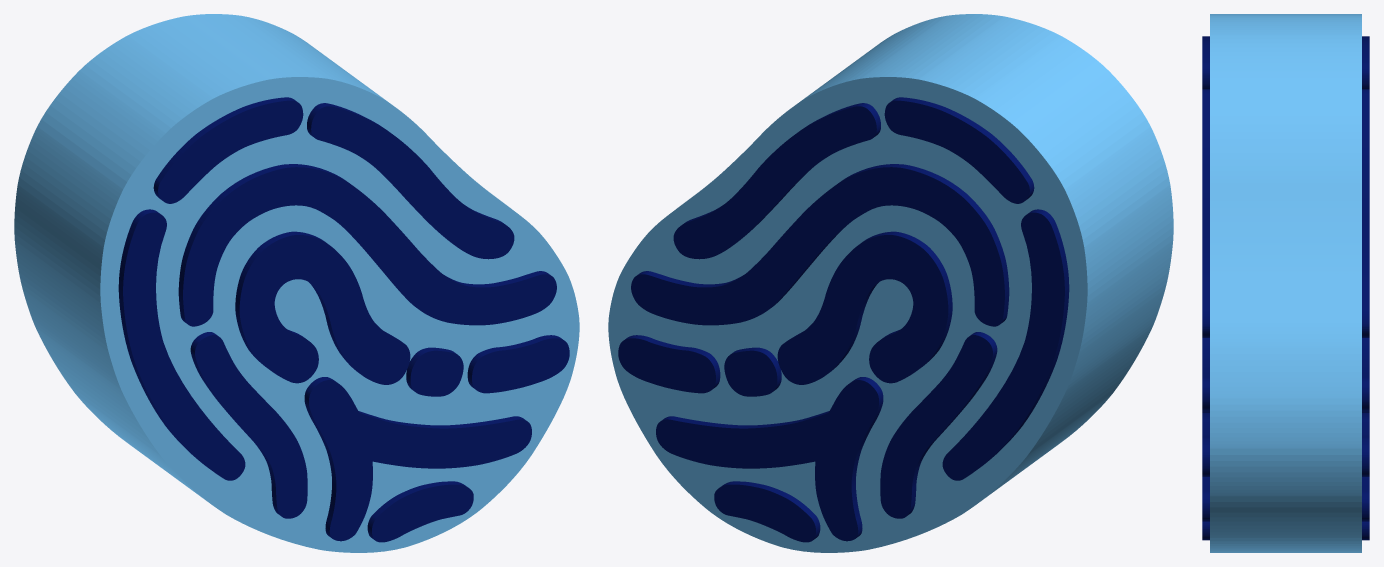
File: U+1FAC6.obj
The picture shows the model from 3 angles, left to right: view 1: azimuth 30°, elevation 25°; view 2: azimuth 150°, elevation 25°; view 3: azimuth 270°, elevation 25°; orthographic projection. The views are drawn at different scales.
Visible parts, largest first — view 1: U+1FAC6_layer00_obj00, U+1FAC6_layer01_obj04, U+1FAC6_layer01_obj03, U+1FAC6_layer01_obj06, U+1FAC6_layer01_obj01, U+1FAC6_layer01_obj00, U+1FAC6_layer01_obj05, U+1FAC6_layer01_obj07, U+1FAC6_layer01_obj09, U+1FAC6_layer01_obj08, U+1FAC6_layer01_obj02; view 2: U+1FAC6_layer00_obj00, U+1FAC6_layer01_obj04, U+1FAC6_layer01_obj03, U+1FAC6_layer01_obj06, U+1FAC6_layer01_obj01, U+1FAC6_layer01_obj00, U+1FAC6_layer01_obj05, U+1FAC6_layer01_obj07, U+1FAC6_layer01_obj09, U+1FAC6_layer01_obj08, U+1FAC6_layer01_obj02; view 3: U+1FAC6_layer00_obj00, U+1FAC6_layer01_obj00, U+1FAC6_layer01_obj04, U+1FAC6_layer01_obj09, U+1FAC6_layer01_obj07, U+1FAC6_layer01_obj06, U+1FAC6_layer01_obj08.
Part boxes in pixels (x1,y1,x2,y2): U+1FAC6_layer00_obj00: (14,14,579,552); U+1FAC6_layer01_obj04: (178,164,556,326); U+1FAC6_layer01_obj03: (235,231,410,384); U+1FAC6_layer01_obj06: (304,377,531,541); U+1FAC6_layer01_obj01: (118,209,245,480); U+1FAC6_layer01_obj00: (307,103,514,259); U+1FAC6_layer01_obj05: (190,332,307,518); U+1FAC6_layer01_obj07: (153,97,303,203); U+1FAC6_layer01_obj09: (467,335,569,393); U+1FAC6_layer01_obj08: (367,481,473,542); U+1FAC6_layer01_obj02: (406,347,463,396); U+1FAC6_layer00_obj00: (608,14,1173,552); U+1FAC6_layer01_obj04: (631,164,1009,326); U+1FAC6_layer01_obj03: (777,231,952,384); U+1FAC6_layer01_obj06: (656,377,883,541); U+1FAC6_layer01_obj01: (942,209,1069,480); U+1FAC6_layer01_obj00: (673,103,880,259); U+1FAC6_layer01_obj05: (880,332,997,518); U+1FAC6_layer01_obj07: (884,97,1034,203); U+1FAC6_layer01_obj09: (618,335,720,393); U+1FAC6_layer01_obj08: (714,481,820,542); U+1FAC6_layer01_obj02: (724,347,781,396); U+1FAC6_layer00_obj00: (1210,14,1361,552); U+1FAC6_layer01_obj00: (1202,89,1369,337); U+1FAC6_layer01_obj04: (1202,338,1369,410); U+1FAC6_layer01_obj09: (1202,413,1369,476); U+1FAC6_layer01_obj07: (1202,36,1369,89); U+1FAC6_layer01_obj06: (1202,477,1369,521); U+1FAC6_layer01_obj08: (1202,521,1369,540).
Bounding box in the file's own units: 0.3215 × 0.3214 × 0.11.
